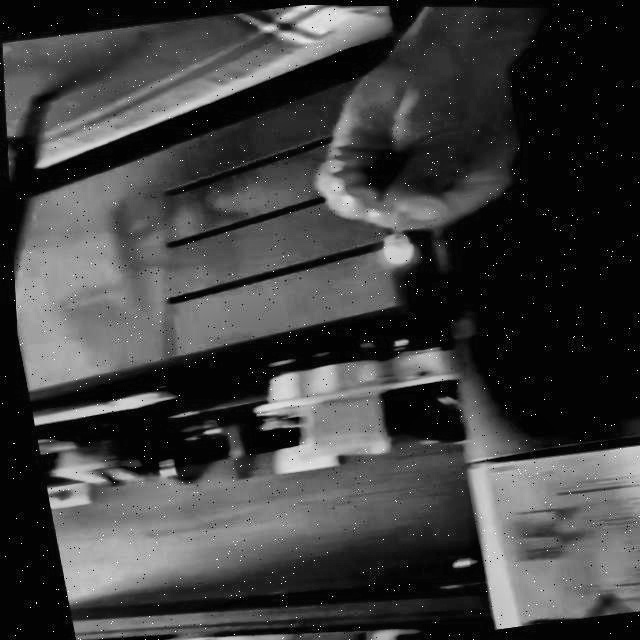Fire: (375, 224, 417, 270)
